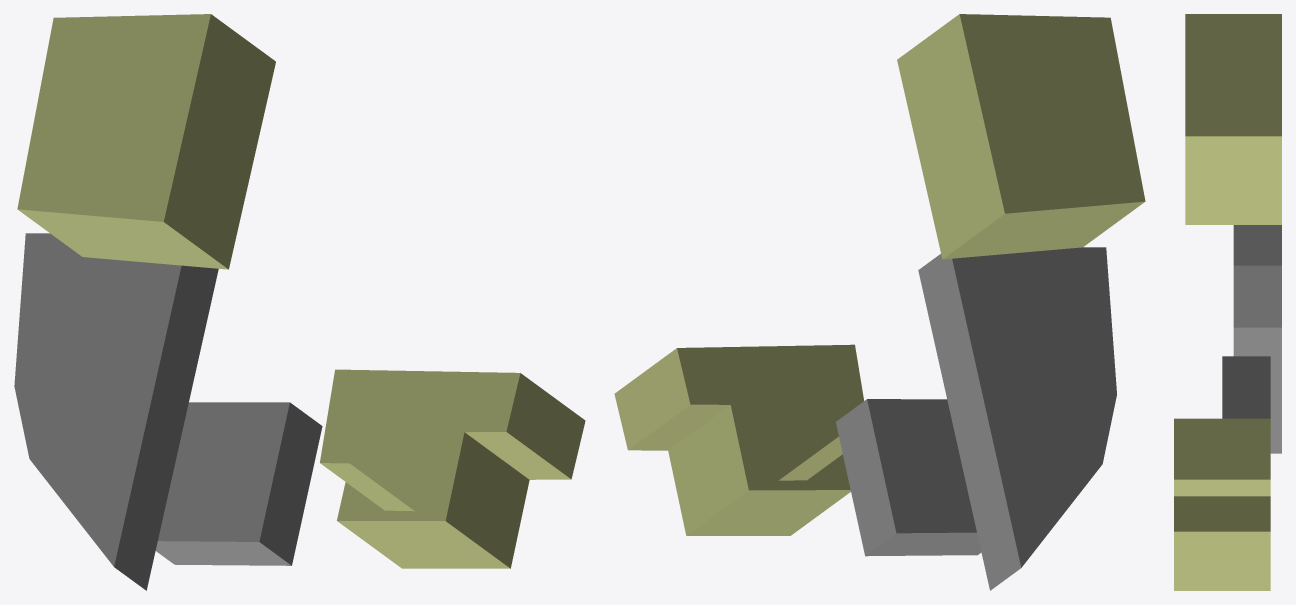
3 views of the same model, side by side, from view 1: azimuth 30°, elevation 25°; view 2: azimuth 150°, elevation 25°; view 3: azimuth 270°, elevation 25° (orthographic). The views are drawn at different scales.
Parts seen in each view (by area): view 1: 0_1_0_1_3_3_3_2_0; view 2: 0_1_0_1_3_3_3_2_0; view 3: 0_1_0_1_3_3_3_2_0.
Part boxes in pixels (x1=…): 0_1_0_1_3_3_3_2_0: x1=14, y1=14, x2=585, y2=590; 0_1_0_1_3_3_3_2_0: x1=614, y1=14, x2=1145, y2=590; 0_1_0_1_3_3_3_2_0: x1=1174, y1=14, x2=1281, y2=590.
Size of the model in its own units: 26.51 by 30.06 by 6.7.
